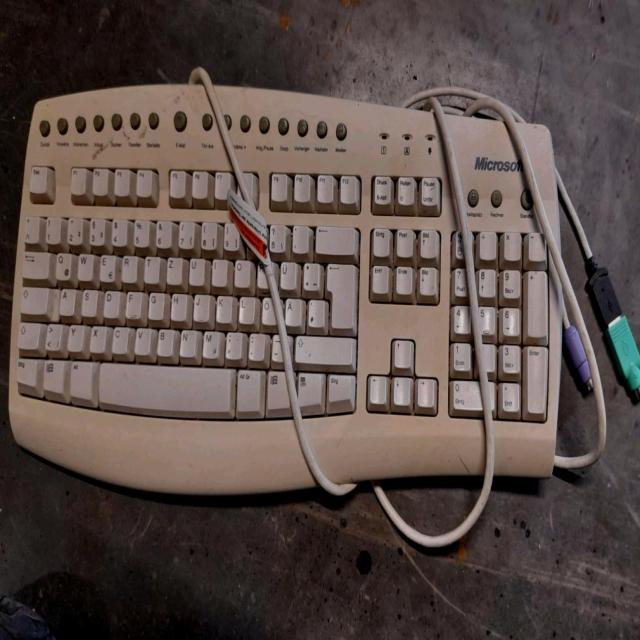1: (44, 213, 60, 243)
2: (66, 214, 83, 244)
3: (87, 215, 104, 245)
4: (110, 215, 126, 244)
5: (131, 215, 148, 245)
6: (154, 216, 171, 246)
7: (176, 217, 194, 248)
8: (199, 218, 216, 248)
9: (222, 219, 239, 249)
a: (58, 285, 74, 313)
accent: (290, 222, 308, 252)
ae: (282, 294, 301, 325)
alt-left: (68, 357, 92, 399)
altgr-right: (234, 366, 261, 412)
b: (155, 325, 173, 355)
c: (110, 323, 127, 351)
caret: (22, 213, 38, 242)
comma: (224, 329, 242, 359)
d: (102, 287, 118, 316)
del: (313, 222, 354, 253)
e: (97, 251, 114, 280)
enter: (323, 259, 354, 328)
f: (124, 287, 141, 317)
g: (147, 289, 163, 317)
h: (170, 290, 187, 319)
hash: (306, 296, 323, 326)
i: (210, 256, 226, 284)
j: (192, 290, 209, 320)
k: (215, 292, 232, 321)
keyboard: (5, 88, 551, 440)
l: (238, 292, 254, 322)
less: (44, 320, 62, 350)
m: (201, 327, 219, 357)
minus: (270, 332, 282, 362)
n: (178, 326, 195, 355)
o: (232, 256, 249, 286)
oe: (260, 294, 275, 324)
p: (256, 260, 274, 290)
plus: (301, 259, 319, 290)
point: (247, 330, 265, 358)
q: (54, 249, 70, 279)
r: (120, 253, 137, 281)
s: (79, 286, 96, 315)
shift-left: (16, 320, 39, 348)
shift-lock: (19, 283, 48, 313)
shift-right: (293, 332, 353, 363)
space: (97, 358, 231, 413)
ss: (267, 221, 285, 251)
strg-left: (15, 356, 36, 386)
strg-right: (325, 370, 355, 410)
t: (143, 253, 159, 281)
tab: (21, 248, 48, 276)
u: (187, 254, 204, 284)
ue: (278, 258, 296, 288)
v: (132, 324, 150, 352)
w: (76, 250, 92, 278)
x: (87, 322, 105, 351)
y: (66, 322, 83, 350)
z: (165, 254, 181, 282)
